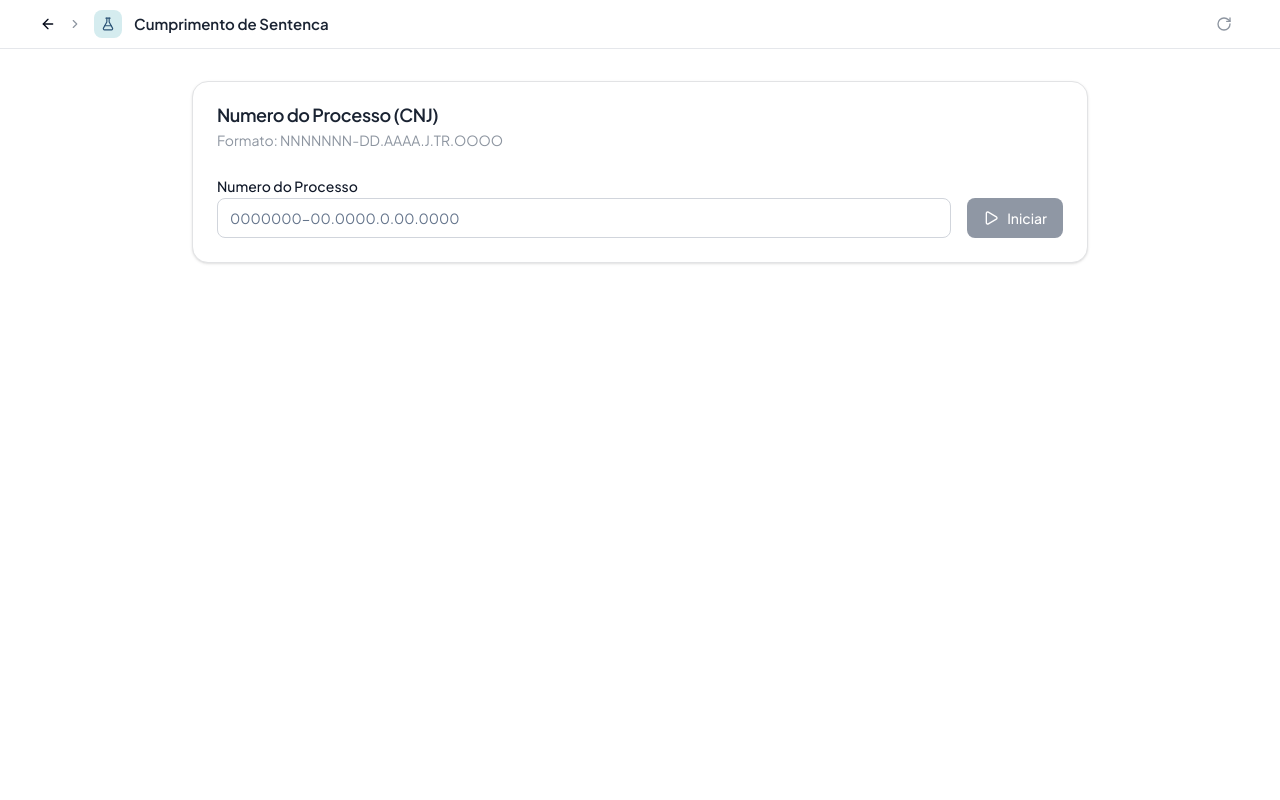
Test case: CumprimentoBetaPage › deve renderizar o histórico ao clicar no botão
Step 1. Click the button titled "Historico" → [1224, 24], box 1208,8 -> 1240,40
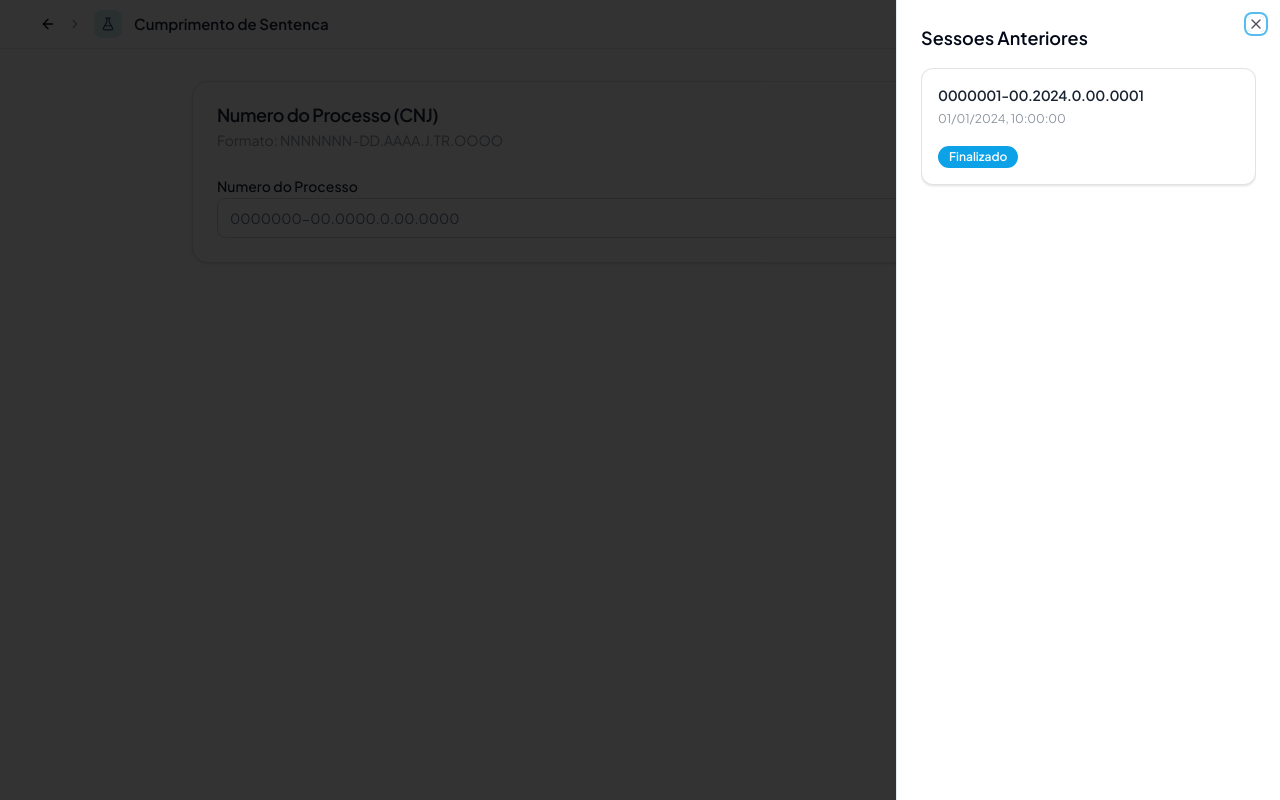
Now the heading "Sessoes Anteriores" is shown, box 921,26 -> 1088,49
